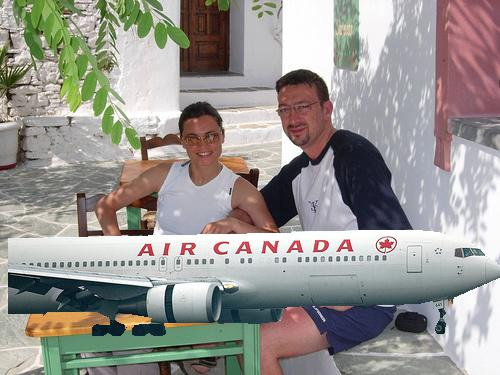tampered: (9, 228, 500, 336)
